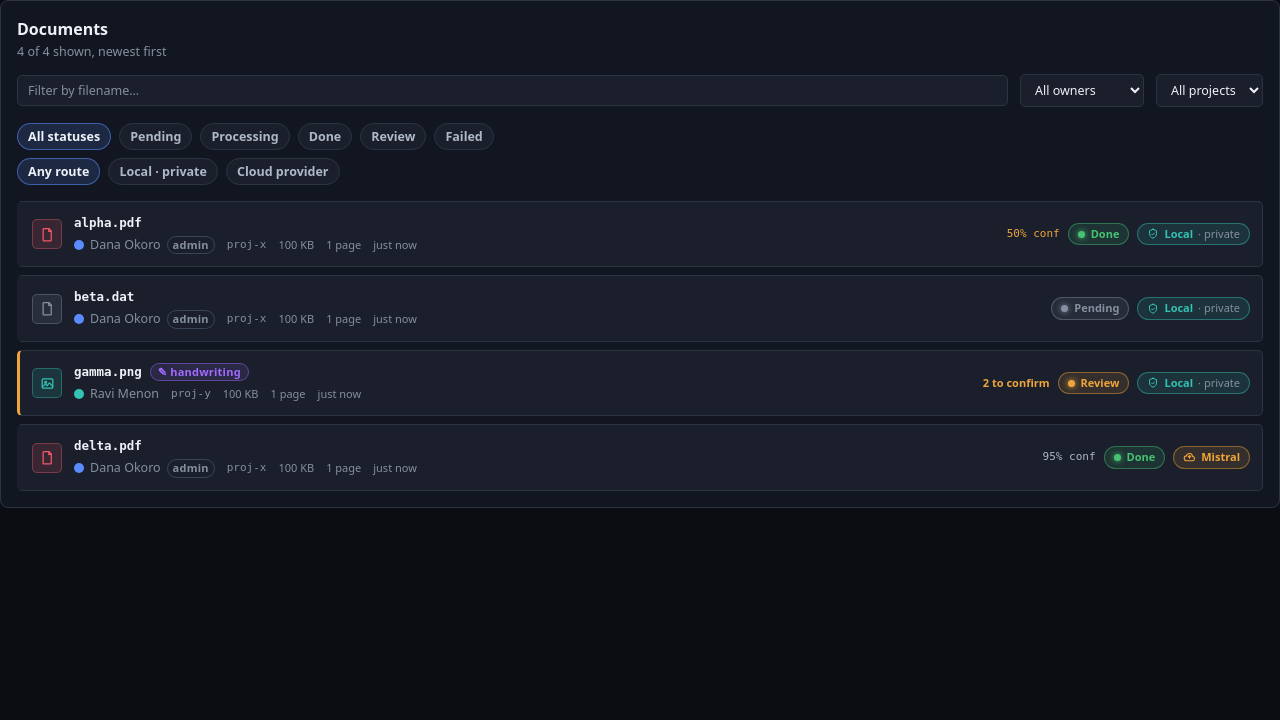
Test case: DocumentList — filters › shows the empty state when nothing matches
In the search field labelled "Filter by filename": x=512, y=90 [17,75,1008,106], type "zzz-nope"
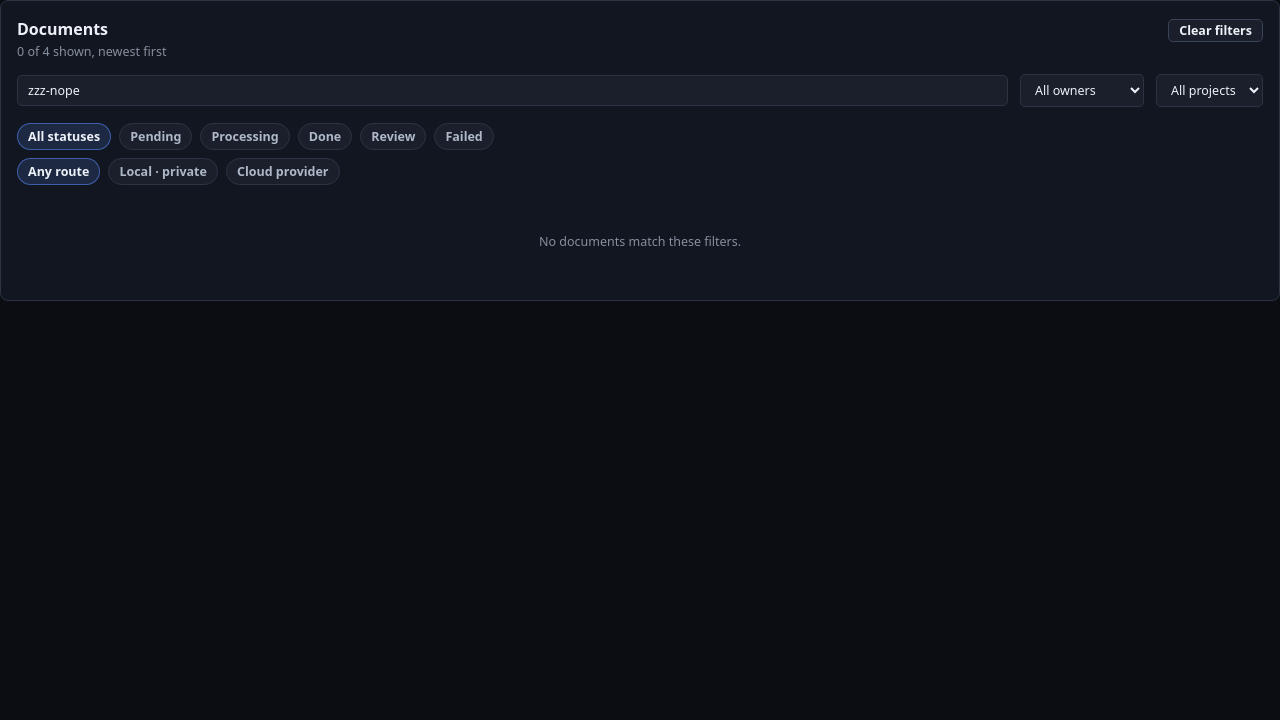
Check: the text "No documents match these filters." is shown, box [539,233,741,250]
